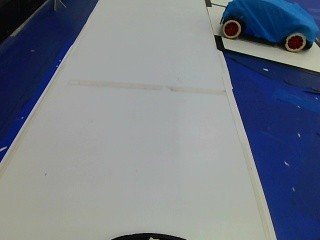car: (212, 0, 318, 54)
